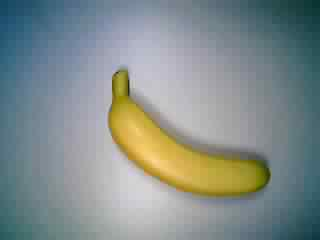banana: (105, 66, 275, 205)
